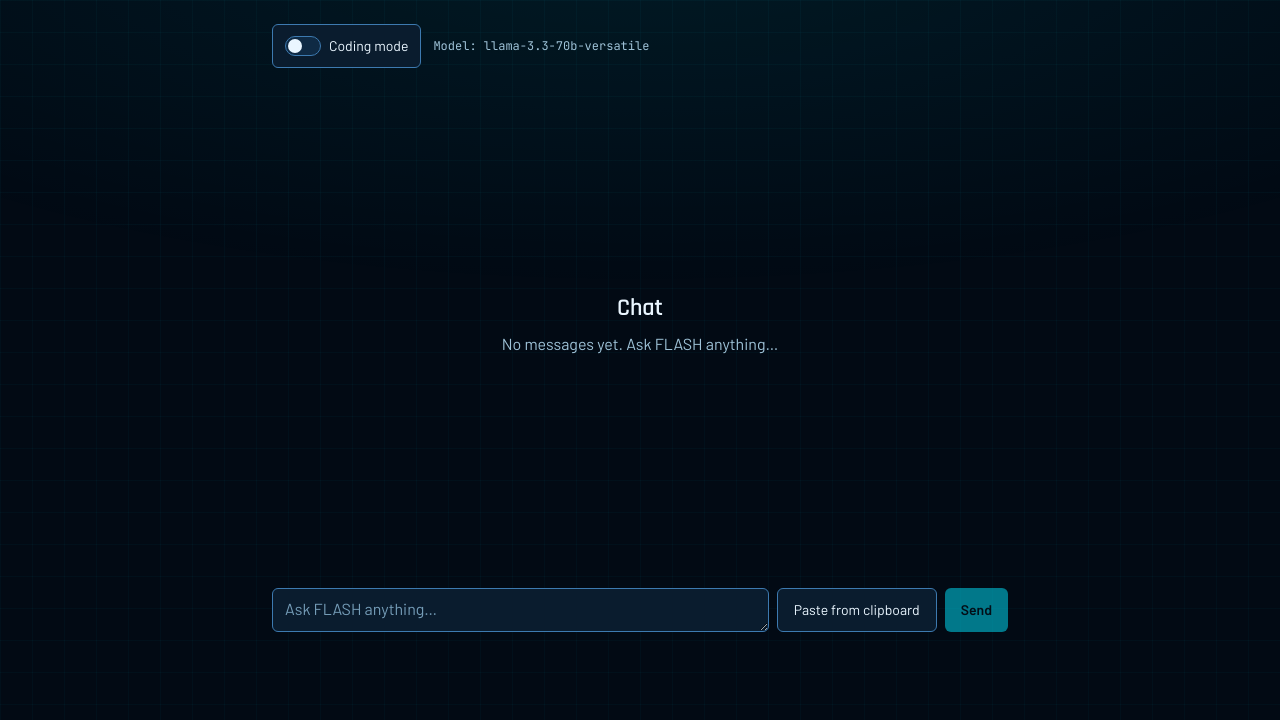
Test: Chat UI › sends the composer text and clears the input
The image size is (1280, 720).
Type "hello" into the text box named "Message FLASH" at (520,610), box [272,588,769,632]
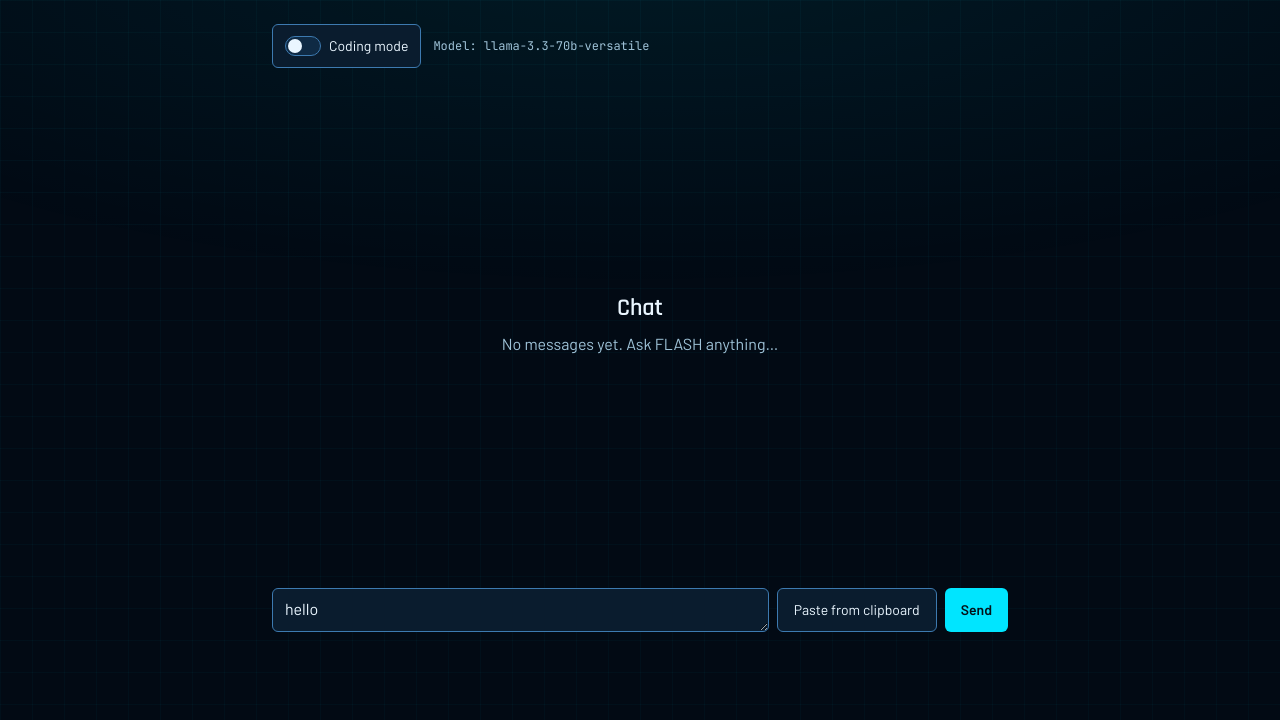
Click the button "Send" at (976,610), box [945,588,1008,632]
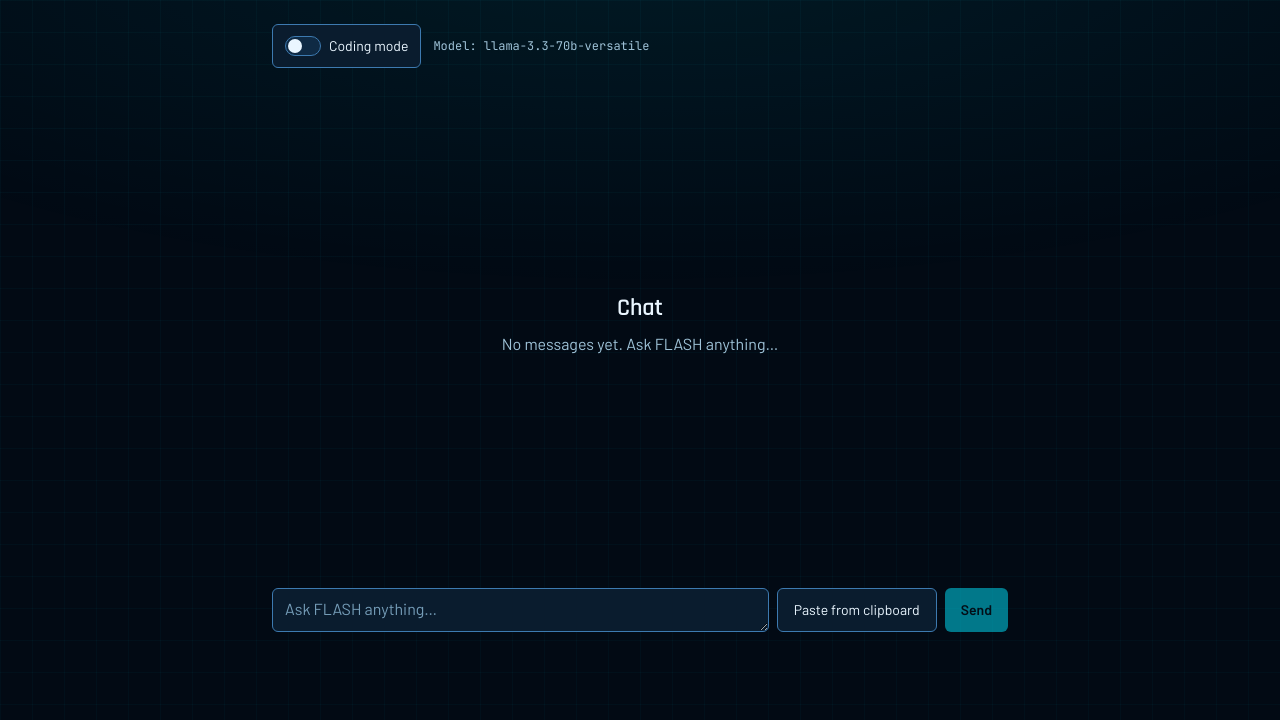
Result: the text box named "Message FLASH" is empty at [272,588,769,632]
